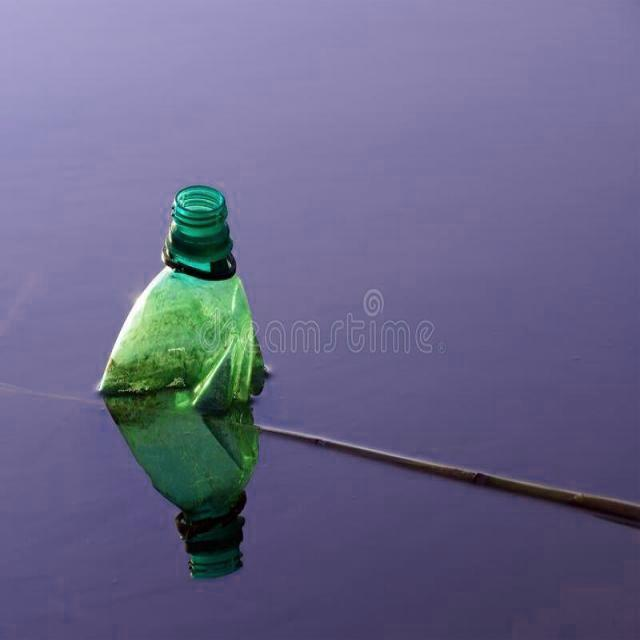Plastic: (93, 180, 272, 404)
